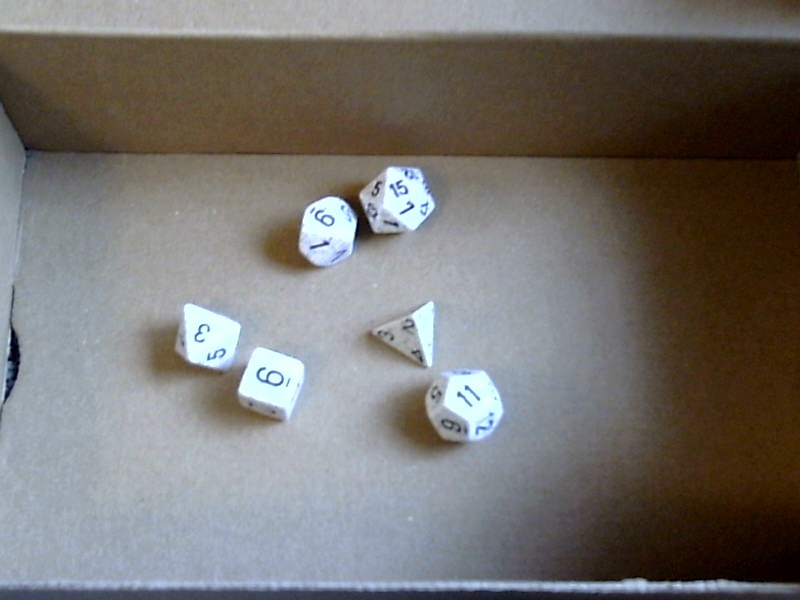d10 9: (289, 188, 358, 278)
d12 11: (419, 368, 512, 451)
d20 15: (358, 161, 442, 244)
d4 2: (365, 292, 440, 370)
d6 6: (233, 345, 313, 424)
d8 3: (166, 298, 245, 375)
